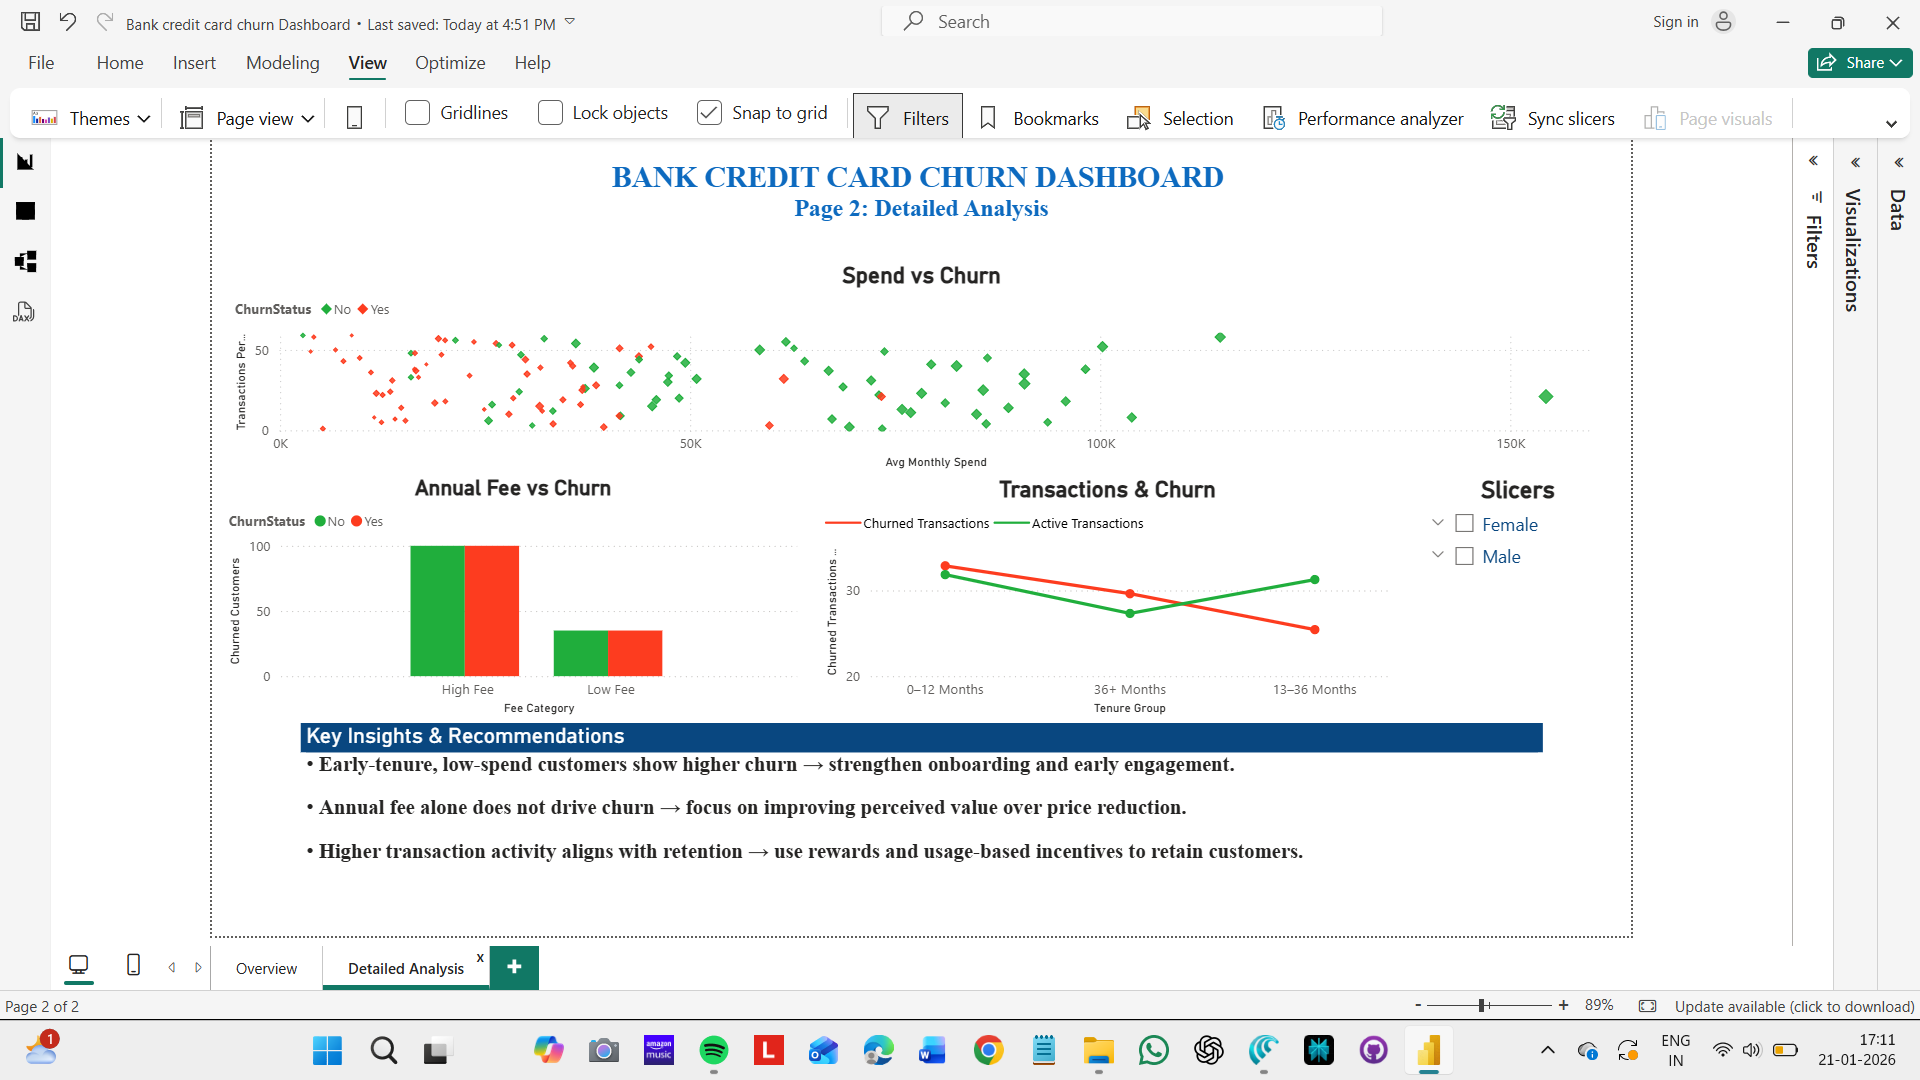

What the dashboard file says about the page in this screenshot:
{"tool":"powerbi","page":{"name":"Detailed Analysis","canvas":[1280,720],"ordinal":1},"visuals":[{"type":"scatterChart","title":"Spend vs Churn","fields":{"X":["Sum(bank_credit_card_churn_dataset.AvgMonthlySpend)"],"Series":["bank_credit_card_churn_dataset.ChurnStatus"],"Size":["Sum(bank_credit_card_churn_dataset.CreditLimit)"],"Y":["bank_credit_card_churn_dataset.TransactionsPerMonth"]},"box":[16,112,1248,192],"z":0},{"type":"clusteredColumnChart","title":"Annual Fee vs Churn","fields":{"Category":["bank_credit_card_churn_dataset.Fee Category"],"Y":["bank_credit_card_churn_dataset.Churned Customers"],"Series":["bank_credit_card_churn_dataset.ChurnStatus"]},"box":[9.6,304.6,522.8,220.9],"z":1000},{"type":"lineChart","title":"Transactions & Churn","fields":{"Category":["bank_credit_card_churn_dataset.Tenure Group"],"Y":["bank_credit_card_churn_dataset.Churned Transactions","bank_credit_card_churn_dataset.Active Transactions"]},"box":[548.9,304.6,517.3,220.9],"z":2000},{"type":"slicer","title":"Slicers","fields":{"Values":["bank_credit_card_churn_dataset.Gender","bank_credit_card_churn_dataset.CardType","bank_credit_card_churn_dataset.Tenure Group"]},"box":[1084.1,304.6,186.6,220.9],"z":3000},{"type":"textbox","box":[16,16,1248,80],"z":4000},{"type":"textbox","title":"Key Insights & Recommendations","box":[80,528,1120,192],"z":5000}]}

Visuals, with their boxes on the page's 1280x720 design canvas (x1, y1, x2, y2). These are canvas units, not pixel positions in the 1920x1080 screenshot, which may show the page scaled, cropped or inside an application window:
"Spend vs Churn" scatterChart: bbox=(16, 112, 1264, 304)
"Annual Fee vs Churn" clusteredColumnChart: bbox=(10, 305, 532, 526)
"Transactions & Churn" lineChart: bbox=(549, 305, 1066, 526)
"Slicers" slicer: bbox=(1084, 305, 1271, 526)
textbox: bbox=(16, 16, 1264, 96)
"Key Insights & Recommendations" textbox: bbox=(80, 528, 1200, 720)
